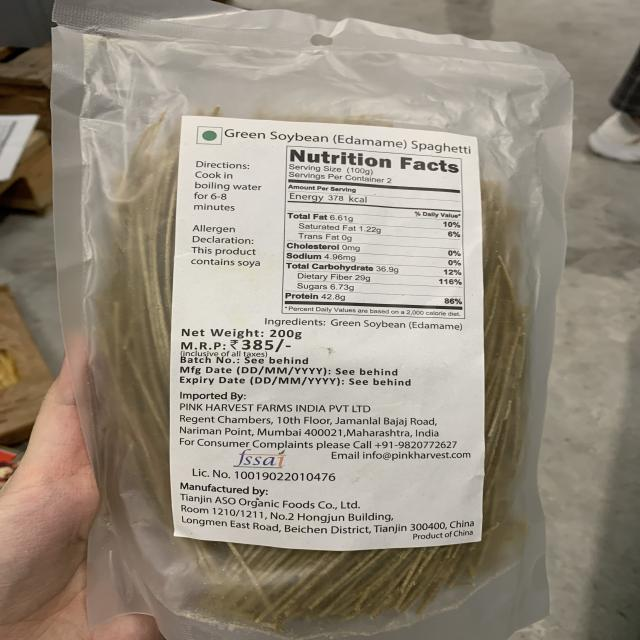object_name: (61, 10, 535, 624)
